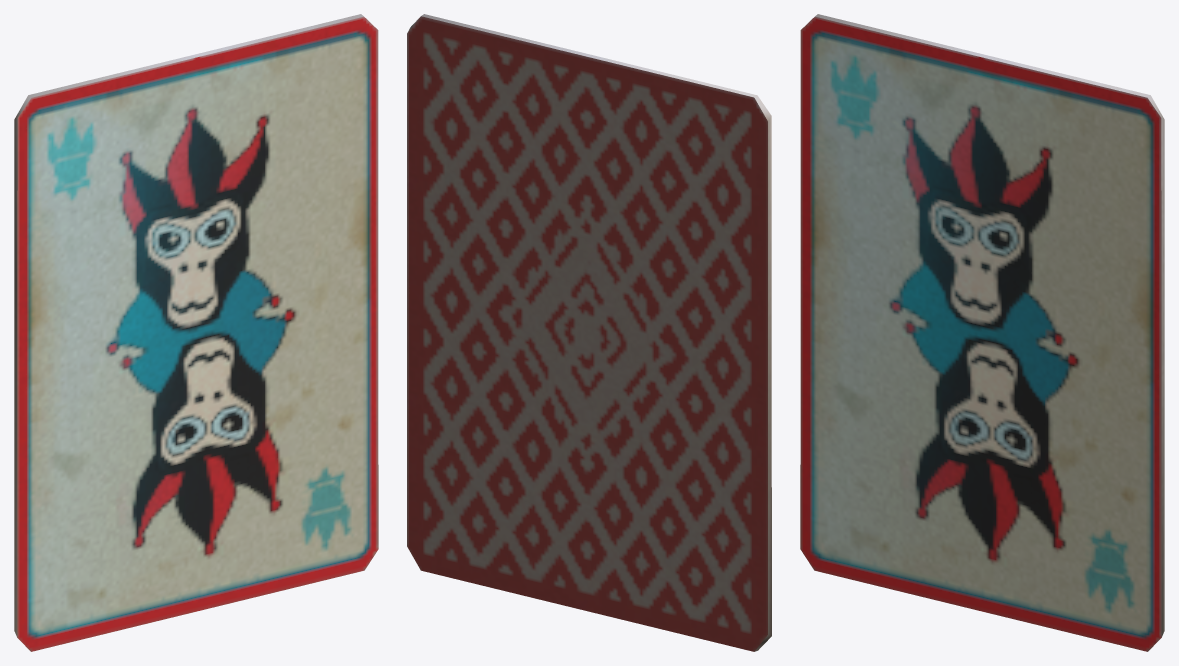
File: PlayingCard.fbx
The picture shows the model from 3 angles, left to right: view 1: azimuth 30°, elevation 25°; view 2: azimuth 150°, elevation 25°; view 3: azimuth 330°, elevation 25°; orthographic projection.
Visible parts, largest first — view 1: PlayingCard__1_; view 2: PlayingCard__1_; view 3: PlayingCard__1_.
Boxes of the visible parts, x1,y1,x2,y2 form: PlayingCard__1_: (14,14,378,651); PlayingCard__1_: (407,14,771,651); PlayingCard__1_: (800,14,1164,651).
Bounding box in the file's own units: 8.21 × 12.03 × 0.1281.
Materials: 1 (1 with a texture image).
